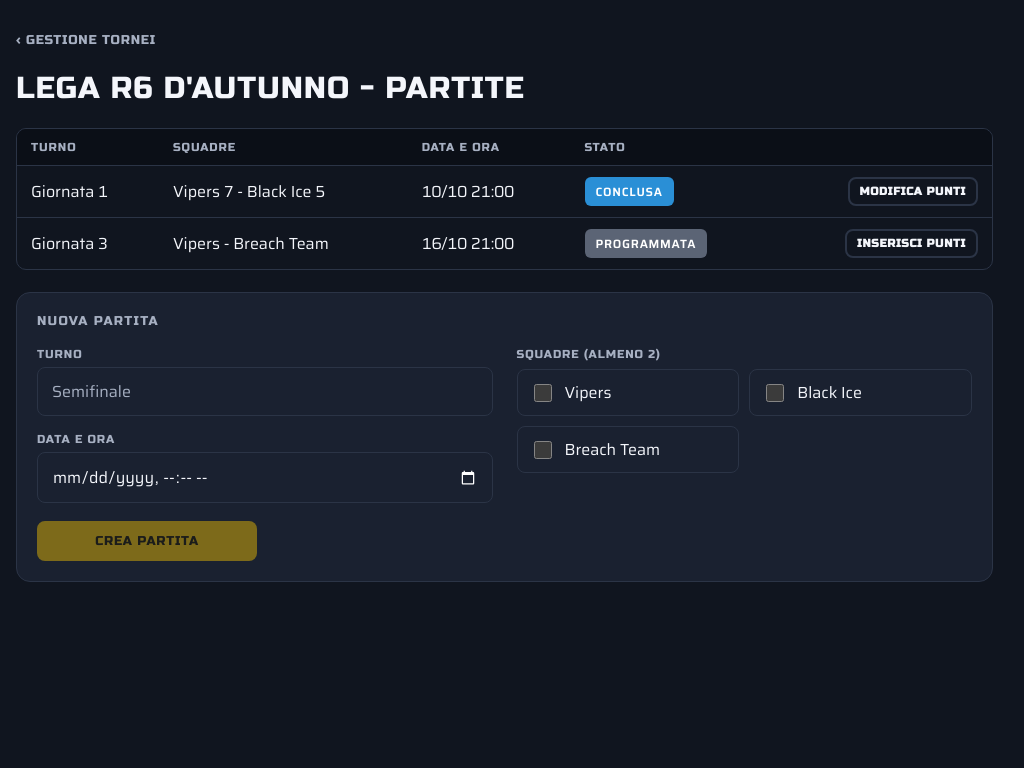
PartiteComponent › mostra l'errore del backend
Click the checkbox labelled "Vipers" at (542, 392), box [534,384,552,402]
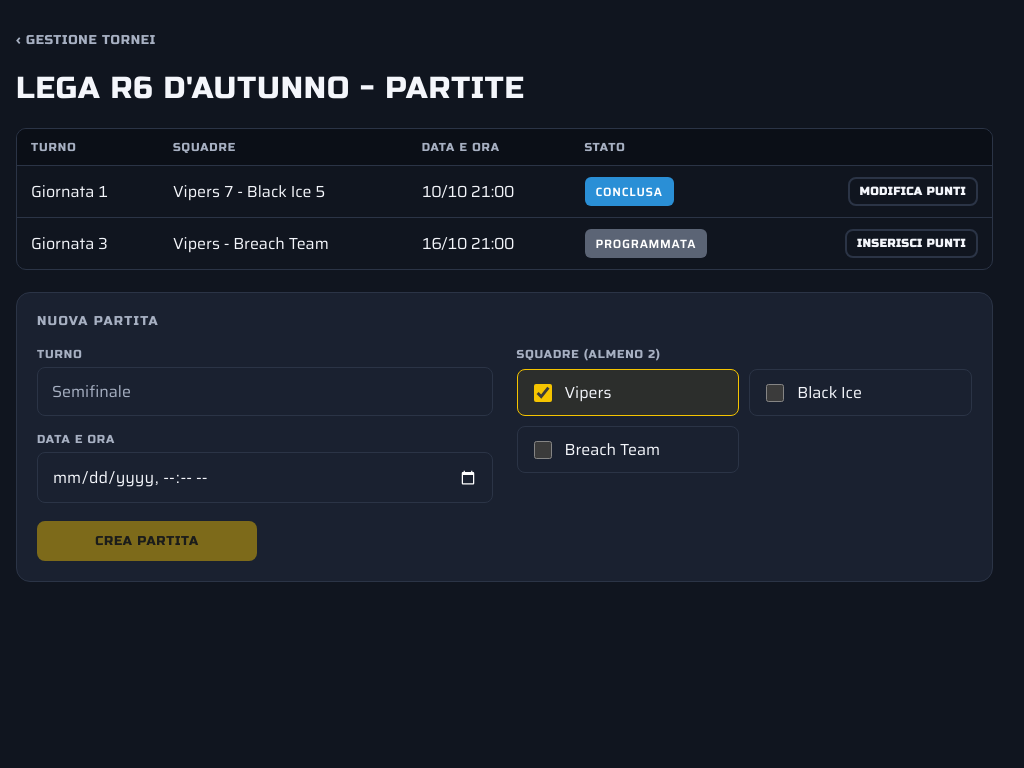
Click the checkbox labelled "Black Ice" at (775, 392), box [766,384,784,402]
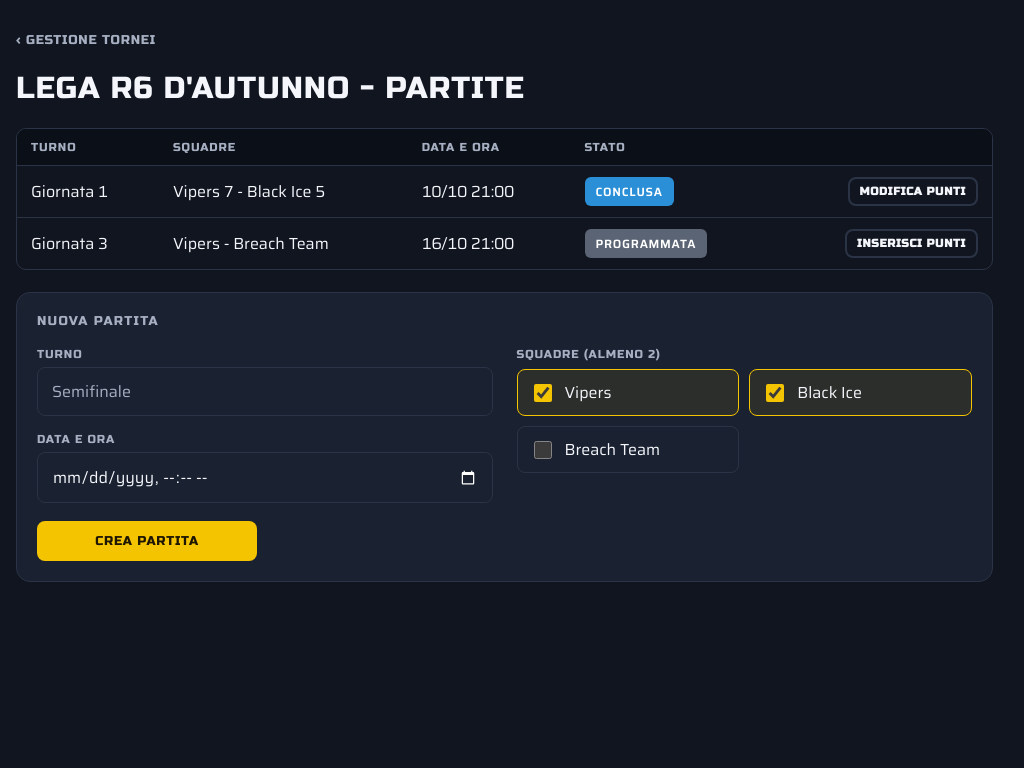
Click the button with class "crea" at (147, 541), box [37,521,257,561]
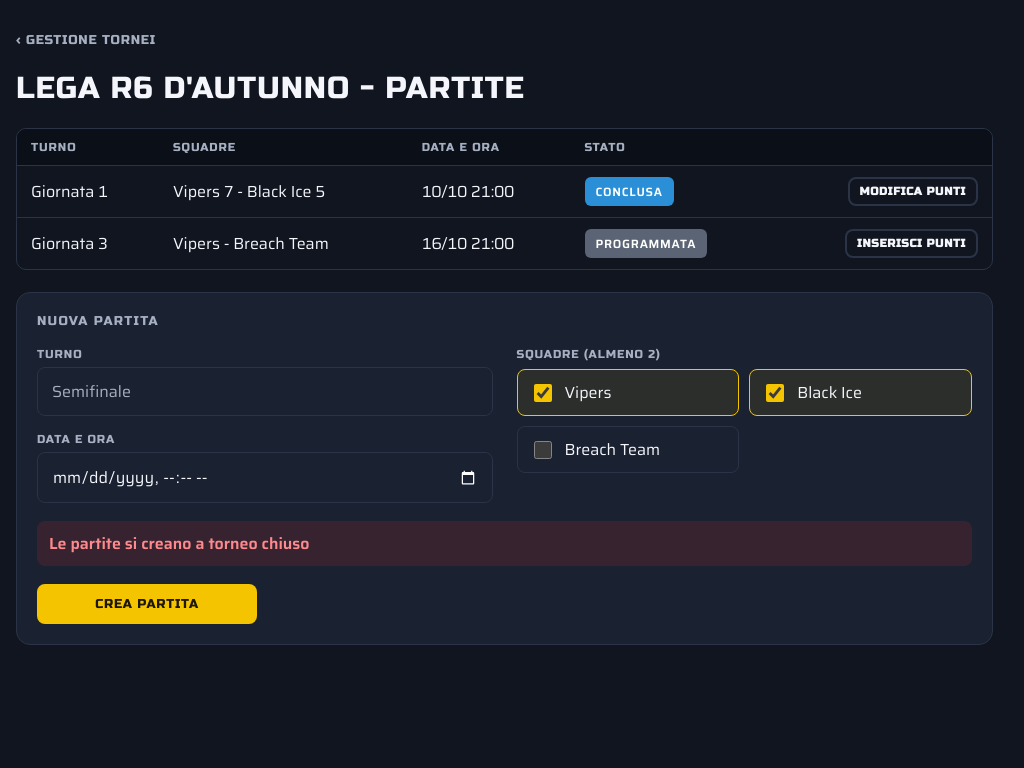
Expected: the text "Le partite si creano a torneo chiuso" is shown, [37,521,972,566]
